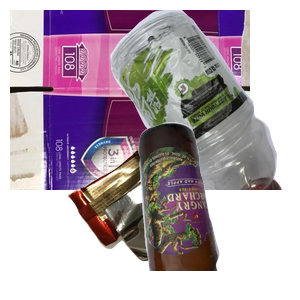cardboard: (10, 10, 250, 190)
glass: (136, 120, 300, 300)
plastic: (73, 10, 300, 190)
trash: (65, 148, 258, 300)
